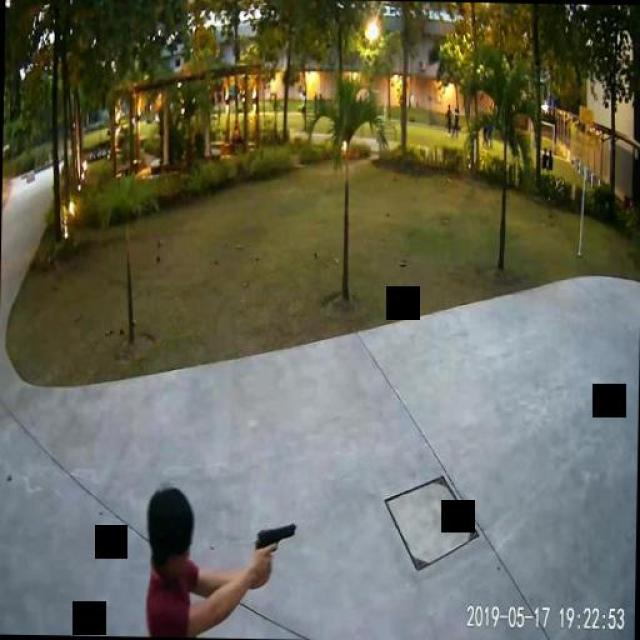gun: (252, 521, 296, 579)
